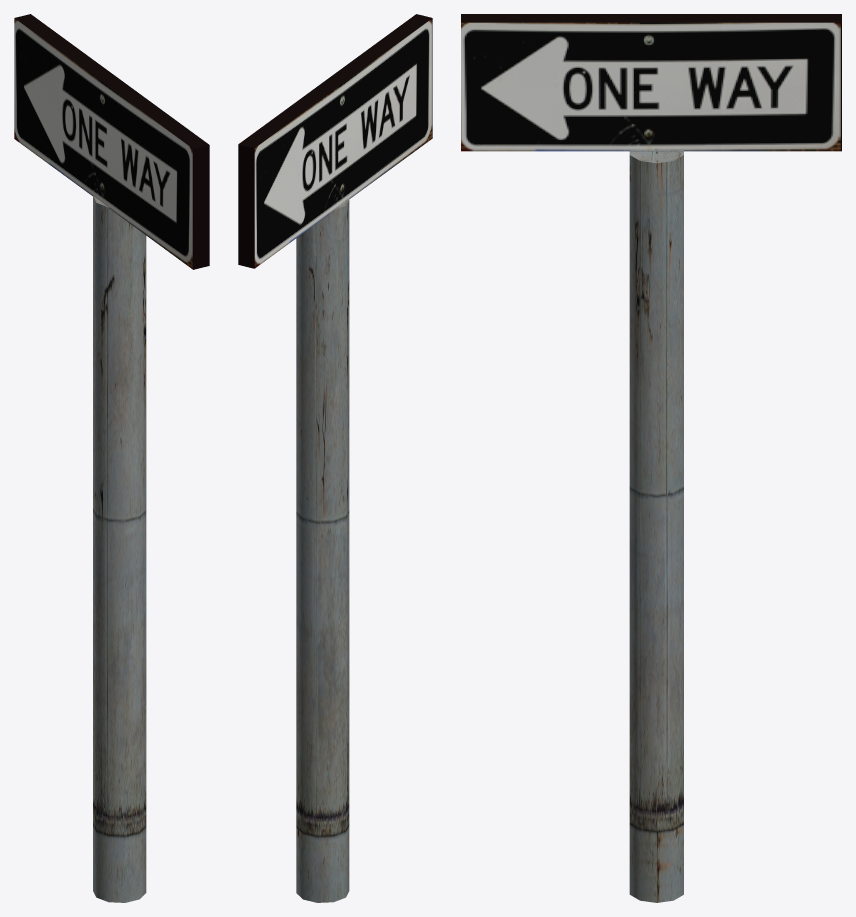
Rendered from sign14.FBX.
3 views of the same model, side by side, from view 1: azimuth 30°, elevation 25°; view 2: azimuth 150°, elevation 25°; view 3: azimuth 270°, elevation 25° (orthographic). The views are drawn at different scales.
Visible parts, largest first — view 1: Cylinder002; view 2: Cylinder002; view 3: Cylinder002.
Part boxes in pixels (box(x1,y1,x2,y2)): Cylinder002: box(14, 14, 209, 902); Cylinder002: box(238, 14, 432, 902); Cylinder002: box(461, 14, 841, 902).
Bounding box in the file's own units: 1.4 × 23.47 × 9.34.
